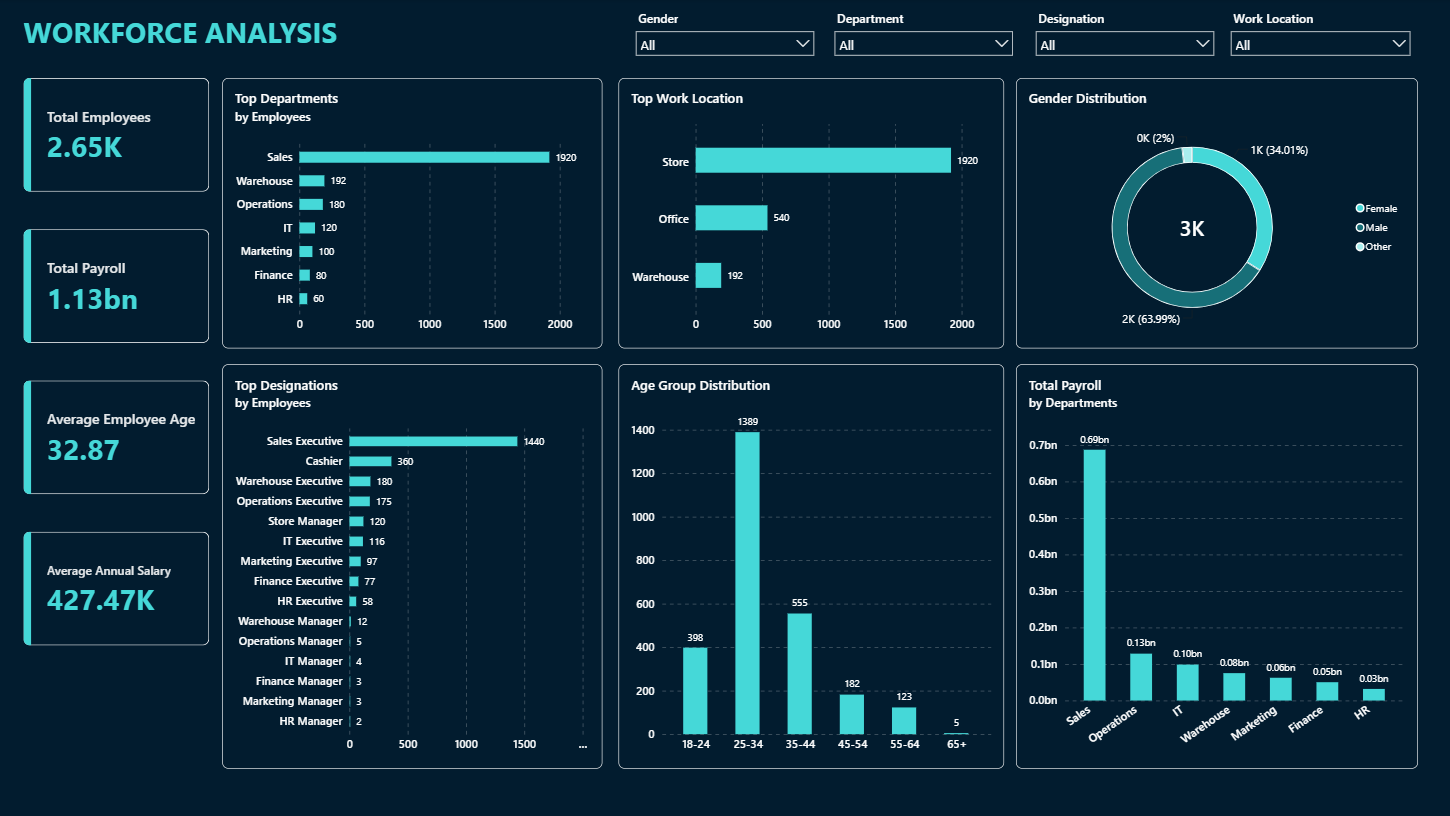

What the dashboard file says about the page in this screenshot:
{"tool":"powerbi","page":{"name":"Workforce Analysis Dashboard","canvas":[1920,1080],"ordinal":6},"visuals":[{"type":"cardVisual","fields":{"Data":["measures table.Total Employees"]},"box":[37,105,245,150],"z":0},{"type":"cardVisual","fields":{"Data":["measures table.Total Payroll"]},"box":[37,305,245,150],"z":1000},{"type":"cardVisual","fields":{"Data":["measures table.Average Employee Age"]},"box":[37,505,245,150],"z":2000},{"type":"cardVisual","fields":{"Data":["measures table.Average Salary"]},"box":[37,705,245,150],"z":3000},{"type":"barChart","title":"Top Departments","fields":{"Y":["measures table.Total Employees"],"Category":["vovers employees.department"]},"box":[298.2,105.4,501.8,357.1],"z":4000},{"type":"slicer","fields":{"Values":["vovers employees.department"]},"box":[1101.8,0,245,105],"z":5000},{"type":"slicer","fields":{"Values":["vovers employees.gender"]},"box":[839.3,0,245,105],"z":6000},{"type":"slicer","fields":{"Values":["vovers employees.designation"]},"box":[1367.9,0,245,105],"z":7000},{"type":"textbox","box":[37,0,437.5,85.7],"z":8000},{"type":"barChart","title":"Top Designations","fields":{"Y":["measures table.Total Employees"],"Category":["vovers employees.designation"]},"box":[298.2,483.9,501.8,533.9],"z":9000},{"type":"donutChart","title":"Gender Distribution","fields":{"Series":["vovers employees.gender"],"Y":["measures table.Total Employees"]},"box":[1346.4,105.4,530.4,357.1],"z":10000},{"type":"columnChart","title":"Age Group Distribution","fields":{"Category":["vovers employees.Age Group"],"Y":["measures table.Total Employees"]},"box":[821.4,483.9,508.9,533.9],"z":11000},{"type":"clusteredColumnChart","title":"Total Payroll","fields":{"Category":["vovers employees.department"],"Y":["measures table.Total Payroll"]},"box":[1346.4,483.9,530.4,533.9],"z":12000},{"type":"barChart","title":"Top Work Location","fields":{"Y":["measures table.Total Employees"],"Category":["vovers employees.work_location"]},"box":[821.4,105.4,508.9,357.1],"z":13000},{"type":"slicer","fields":{"Values":["vovers employees.work_location"]},"box":[1625,0,246.4,98.2],"z":14000}]}

Visuals, with their boxes in screenshot pixels (x1, y1, x2, y2), scaled from the page's 1920x1080 canvas onto the 1450x816 screenshot:
cardVisual - measures table.Total Employees: bbox(28, 79, 213, 193)
cardVisual - measures table.Total Payroll: bbox(28, 230, 213, 344)
cardVisual - measures table.Average Employee Age: bbox(28, 382, 213, 495)
cardVisual - measures table.Average Salary: bbox(28, 533, 213, 646)
"Top Departments" barChart: bbox(225, 80, 604, 349)
slicer - vovers employees.department: bbox(832, 0, 1017, 79)
slicer - vovers employees.gender: bbox(634, 0, 819, 79)
slicer - vovers employees.designation: bbox(1033, 0, 1218, 79)
textbox: bbox(28, 0, 358, 65)
"Top Designations" barChart: bbox(225, 366, 604, 769)
"Gender Distribution" donutChart: bbox(1017, 80, 1417, 349)
"Age Group Distribution" columnChart: bbox(620, 366, 1005, 769)
"Total Payroll" clusteredColumnChart: bbox(1017, 366, 1417, 769)
"Top Work Location" barChart: bbox(620, 80, 1005, 349)
slicer - vovers employees.work_location: bbox(1227, 0, 1413, 74)
